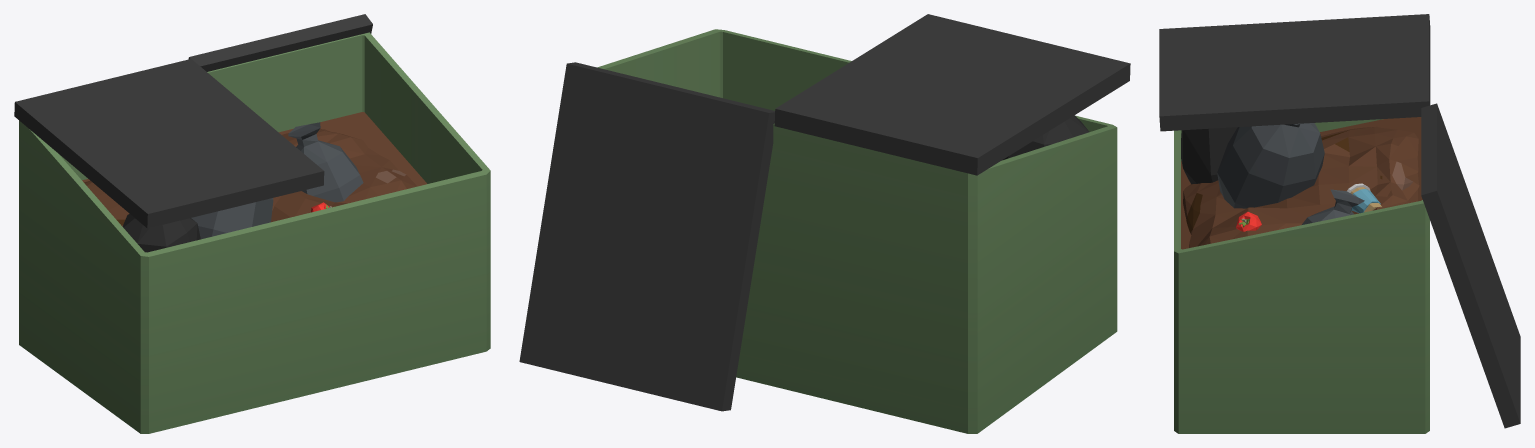
Rendered from Trash_03.fbx.
3 renders of one model, left to right at view 1: azimuth 30°, elevation 25°; view 2: azimuth 150°, elevation 25°; view 3: azimuth 270°, elevation 25°, orthographic. The views are drawn at different scales.
Parts seen in each view (by area): view 1: Trash_03; view 2: Trash_03; view 3: Trash_03.
Part boxes in pixels (x1,y1,x2,y2): Trash_03: (14,14,490,433); Trash_03: (519,14,1130,433); Trash_03: (1159,14,1520,433).
Bounding box in the file's own units: 162 × 106 × 141.
